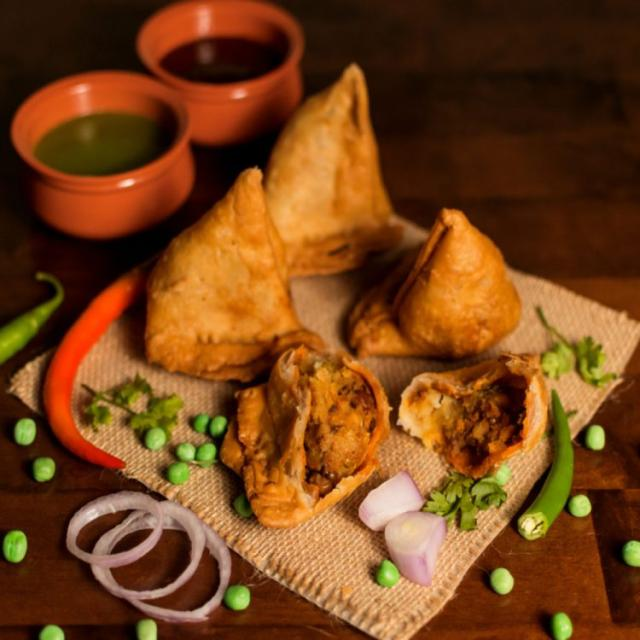SAMOSA: (146, 167, 313, 382), (146, 169, 299, 380), (264, 64, 409, 277), (221, 345, 389, 528), (264, 64, 401, 277), (348, 209, 521, 358), (398, 353, 550, 478)
